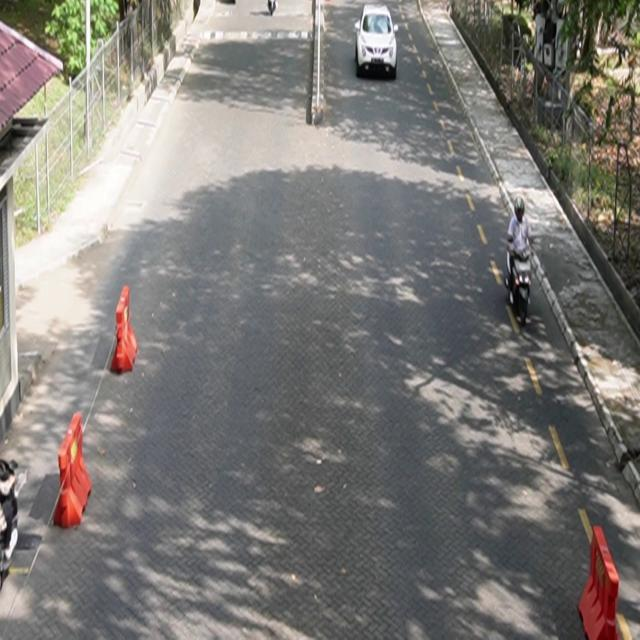car: (355, 4, 400, 80)
